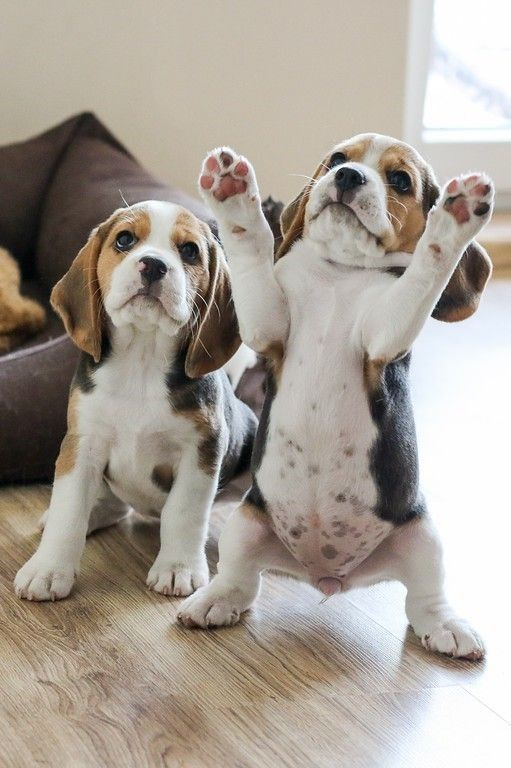dog: (226, 116, 485, 707), (23, 179, 263, 626)
